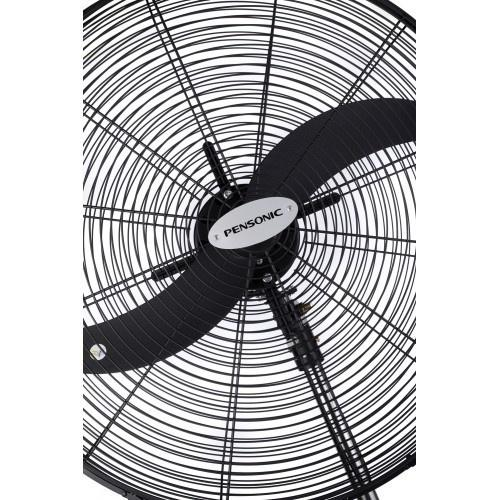fan: (80, 0, 414, 499)
